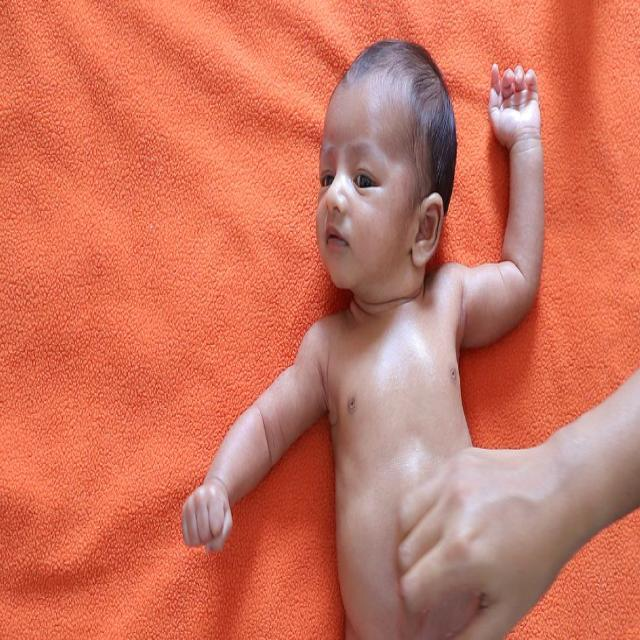non-dog: (178, 39, 546, 640), (394, 367, 640, 640)
